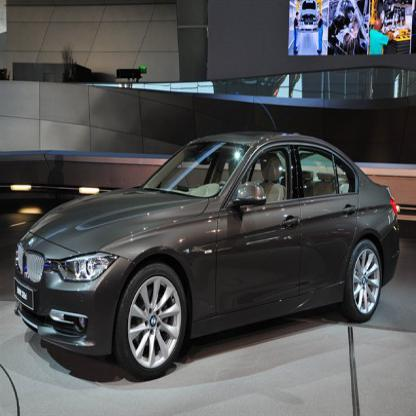Vehicle: (15, 126, 402, 383)
